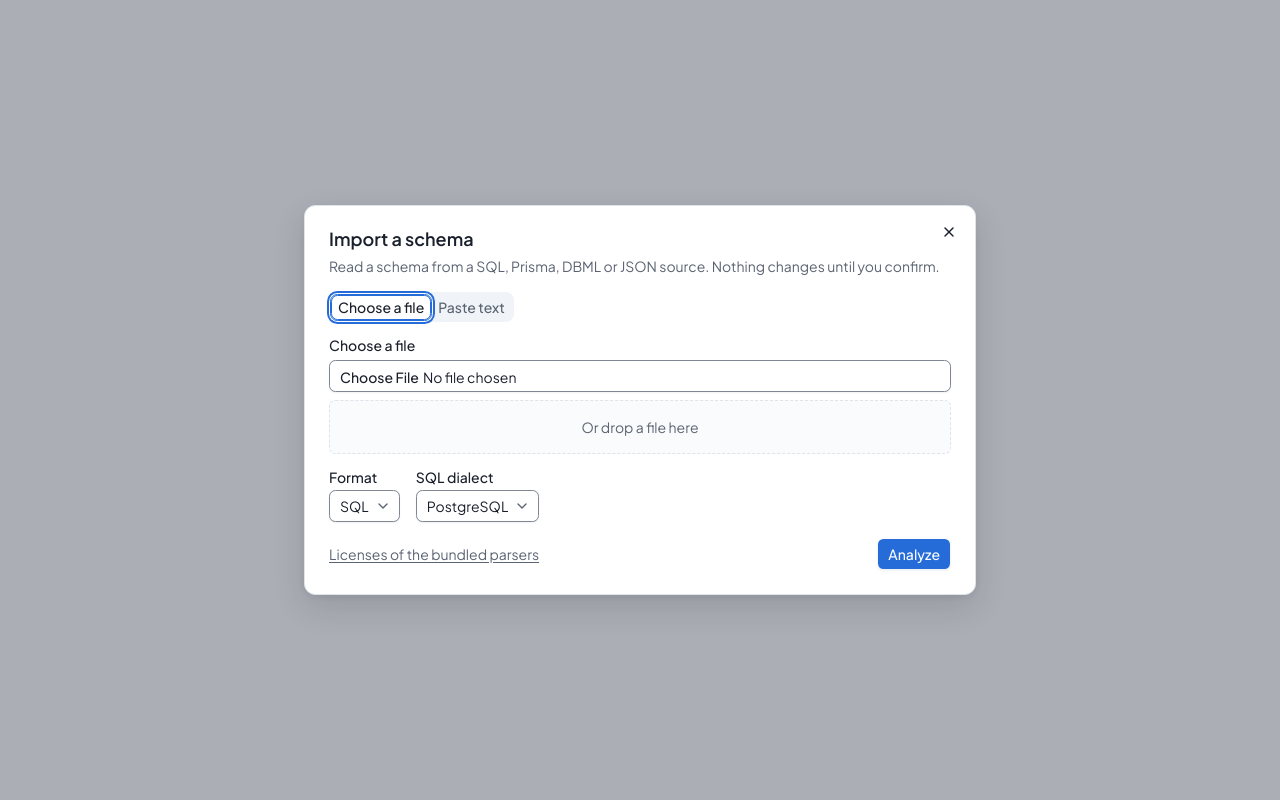
Scenario: ImportDialog › rejects empty pasted text without analyzing
The image size is (1280, 800).
Click the tab "Paste text": point(472, 307) top-left (431, 294), bottom-right (512, 320)
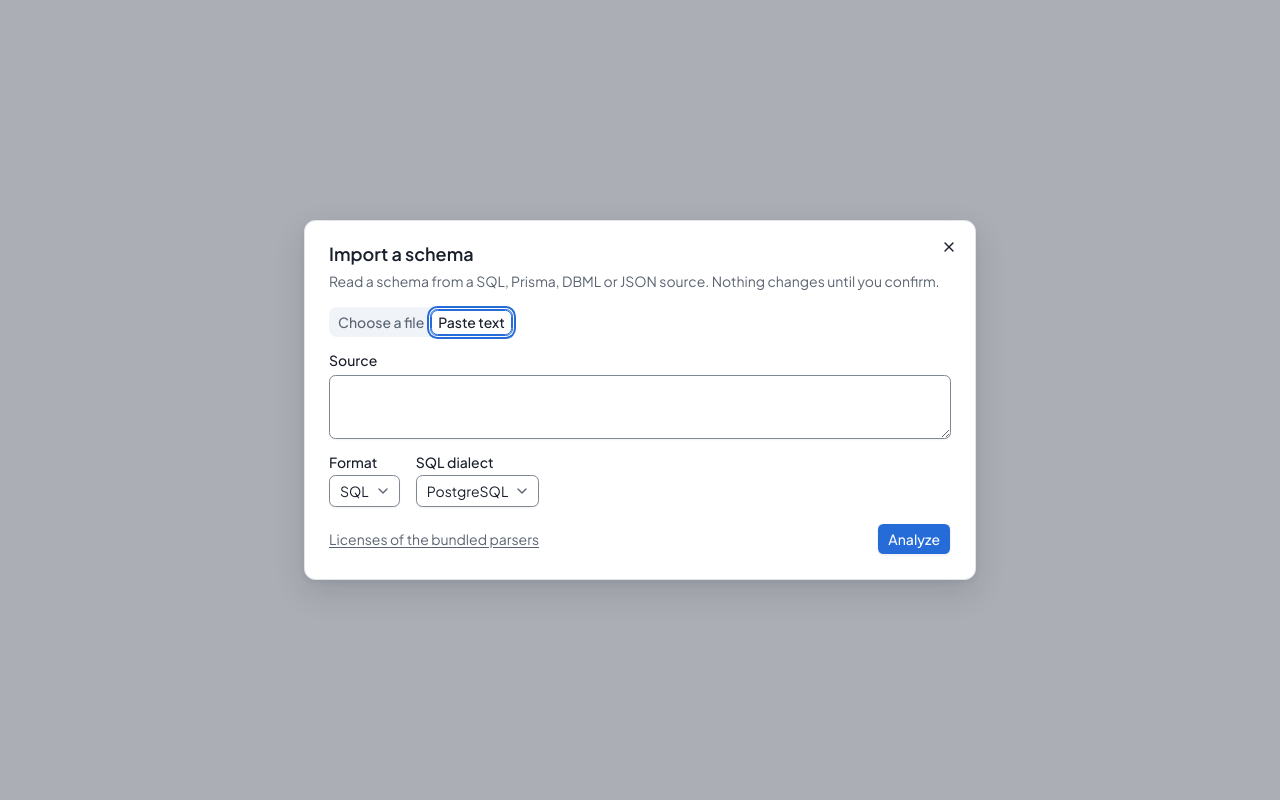
Click the button "Analyze": point(914, 539) top-left (877, 523), bottom-right (951, 555)
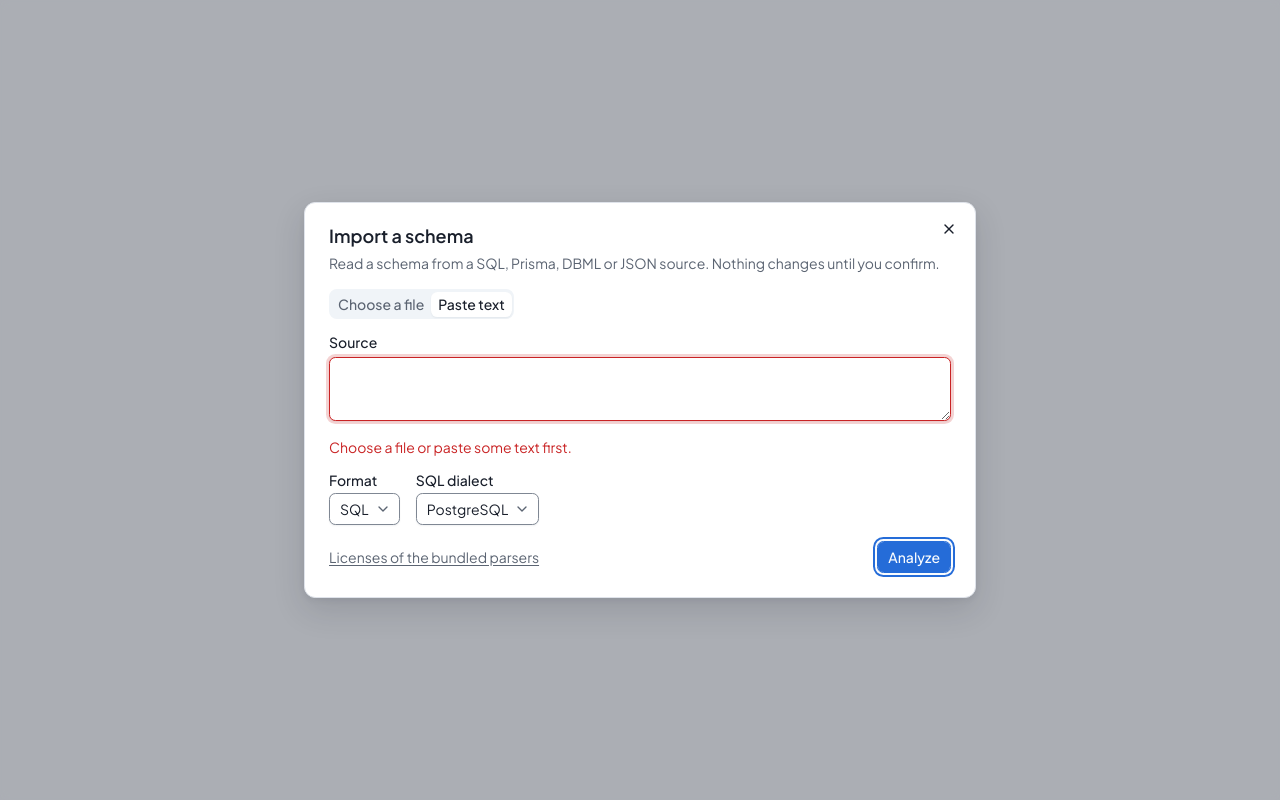
Now the text "Choose a file or paste some text first." is shown, box top-left (329, 438), bottom-right (572, 456)
